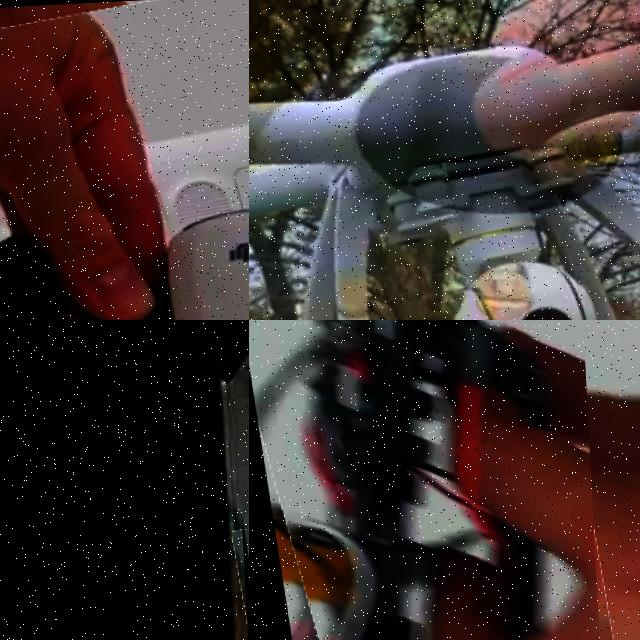drone: (249, 0, 640, 320), (249, 320, 603, 640), (0, 0, 249, 320)
